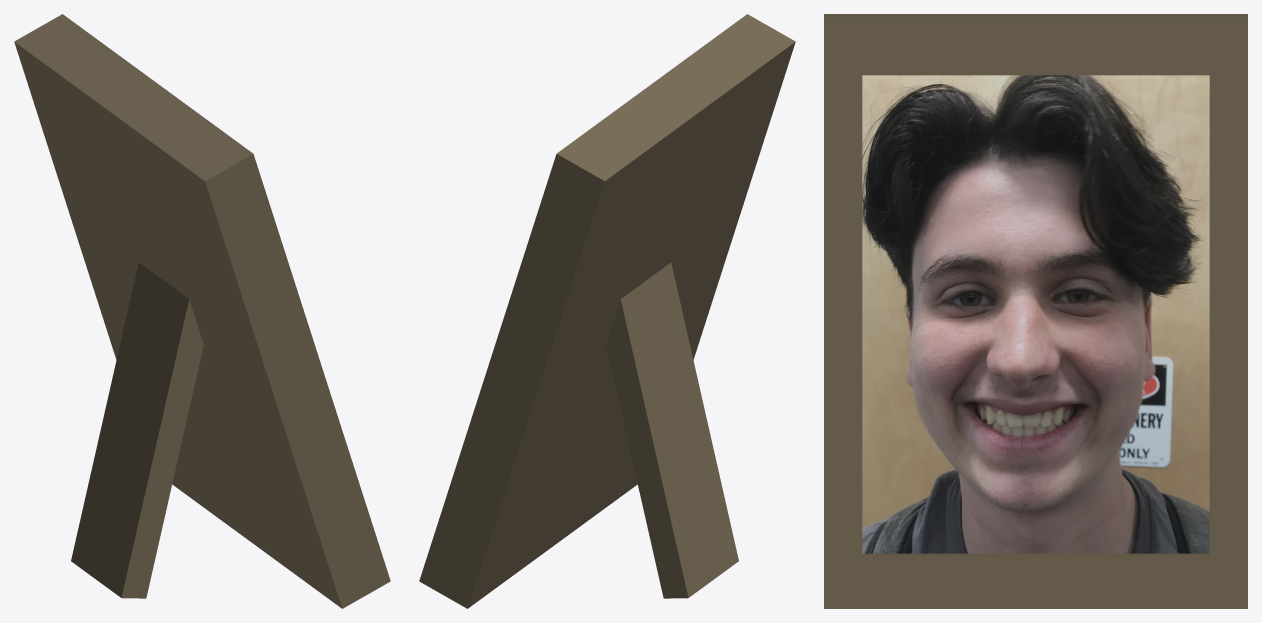
File: ColeFrame.fbx
The picture shows the model from 3 angles, left to right: view 1: azimuth 30°, elevation 25°; view 2: azimuth 150°, elevation 25°; view 3: azimuth 270°, elevation 25°; orthographic projection. The views are drawn at different scales.
Visible parts, largest first — view 1: pCube3; view 2: pCube3; view 3: pCube3.
Part boxes in pixels (x1,y1,x2,y2): pCube3: (14, 14, 390, 608); pCube3: (419, 14, 795, 608); pCube3: (824, 14, 1247, 608).
Size of the model in its own units: 0.7127 by 1.67 by 1.18.
